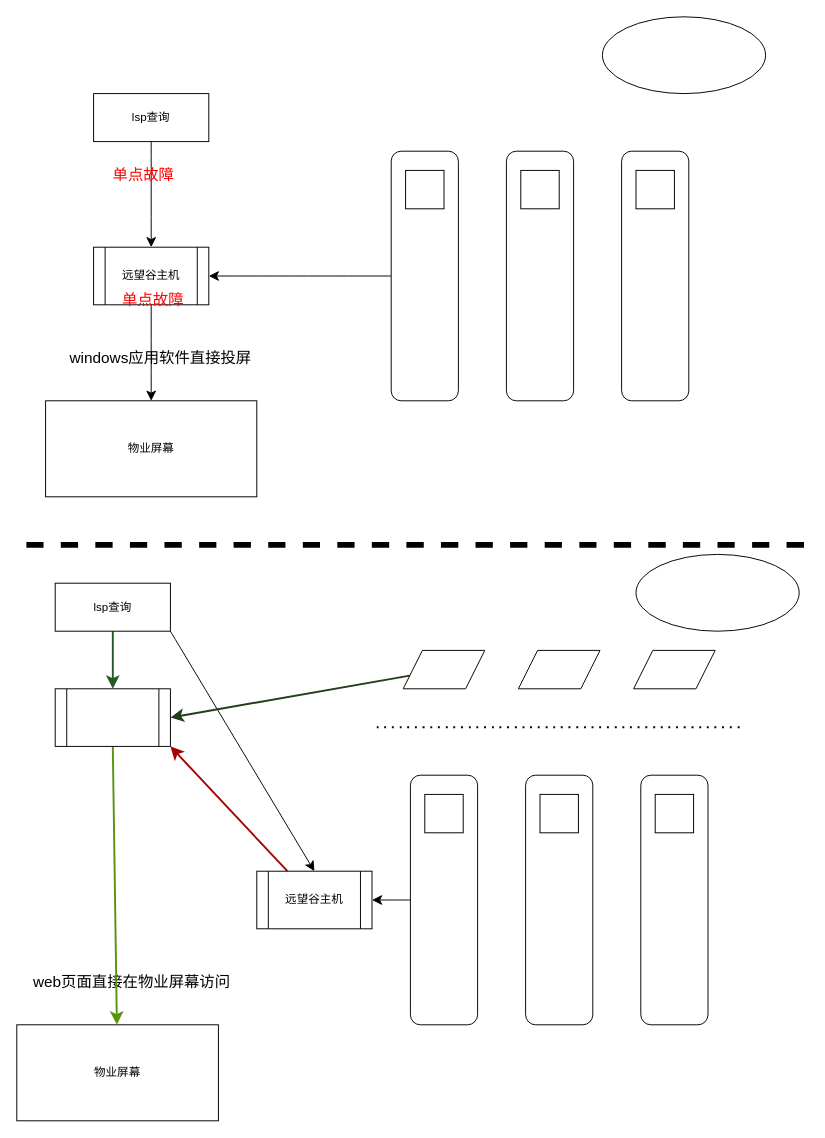
The diagram is 825 pixels wide and 1138 high, and some of its shapes have lost their labels. The centre of each missing label's shape, as x and y in pixels:
双机备份方案: the point at 717,592
服务器: the point at 112,717
目前单机方案: the point at 683,55
